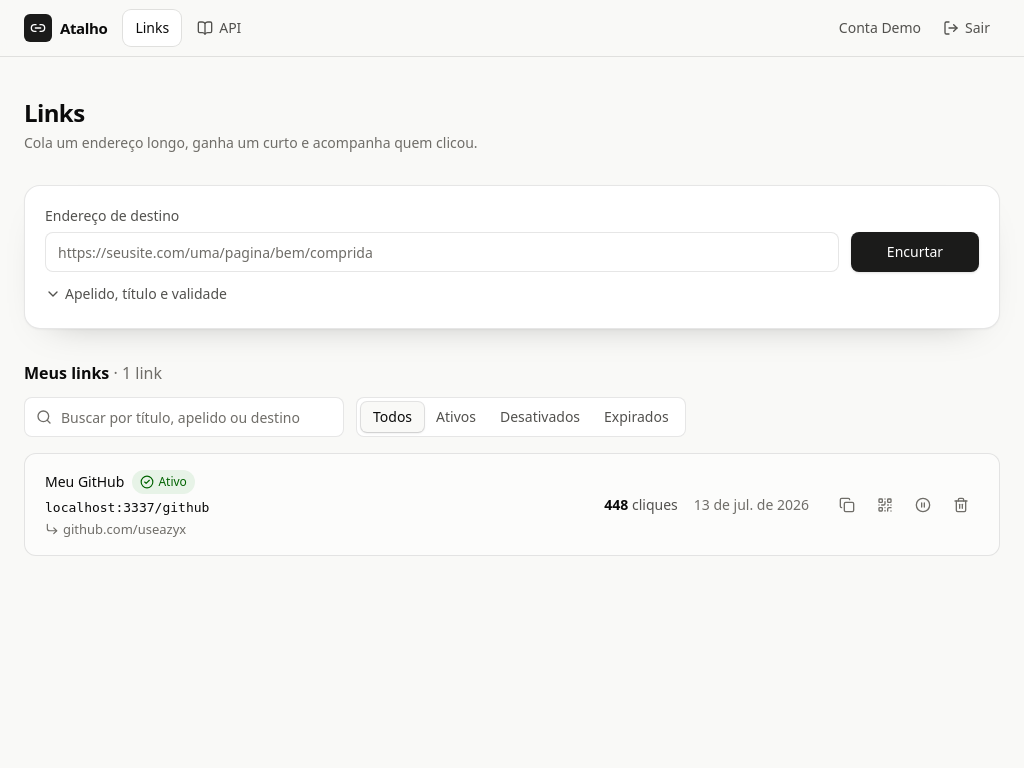
it: links page › shows a taken alias under the alias field
Type "https://example.com" into the field labelled "Endereço de destino" at x=442, y=252, box [46,233,838,271]
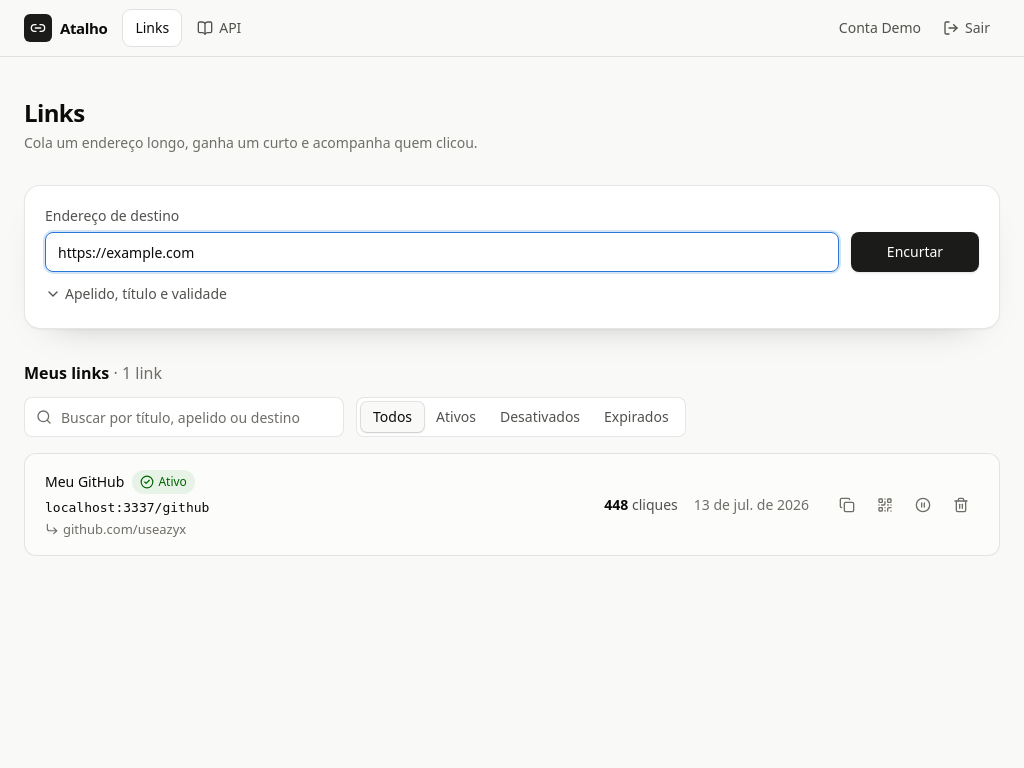
Click the button "Apelido, título e validade" at x=136, y=294, box [45,284,227,304]
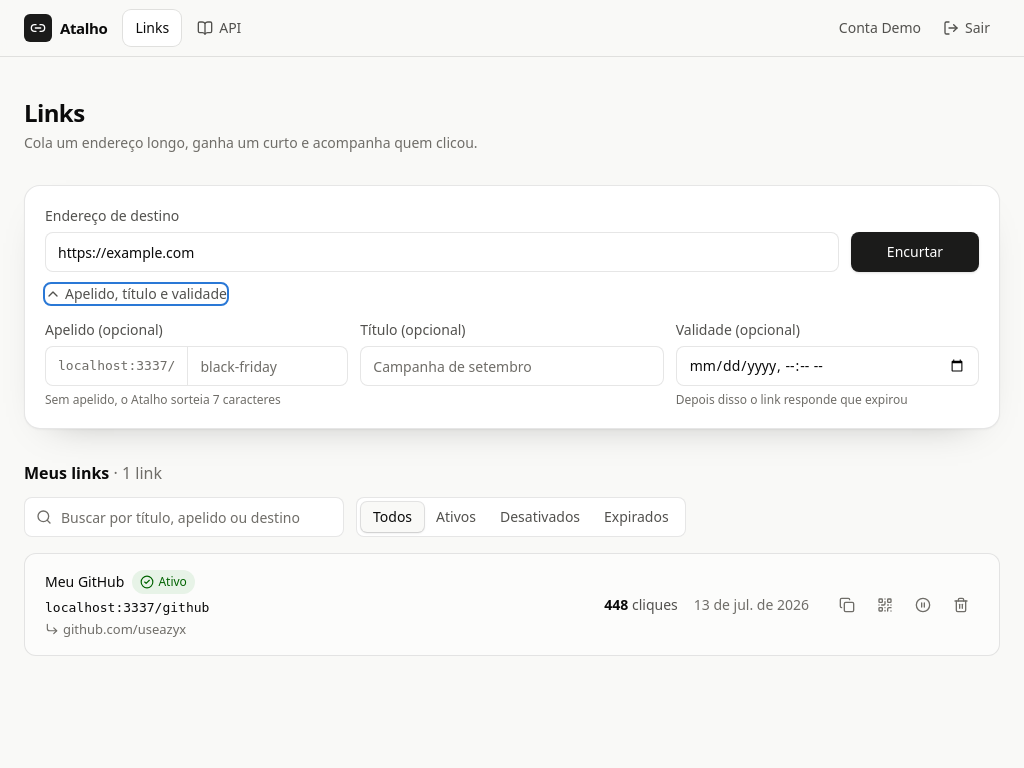
Type "GitHub" into the field labelled "Apelido (opcional)" at x=268, y=366, box [188,347,347,385]
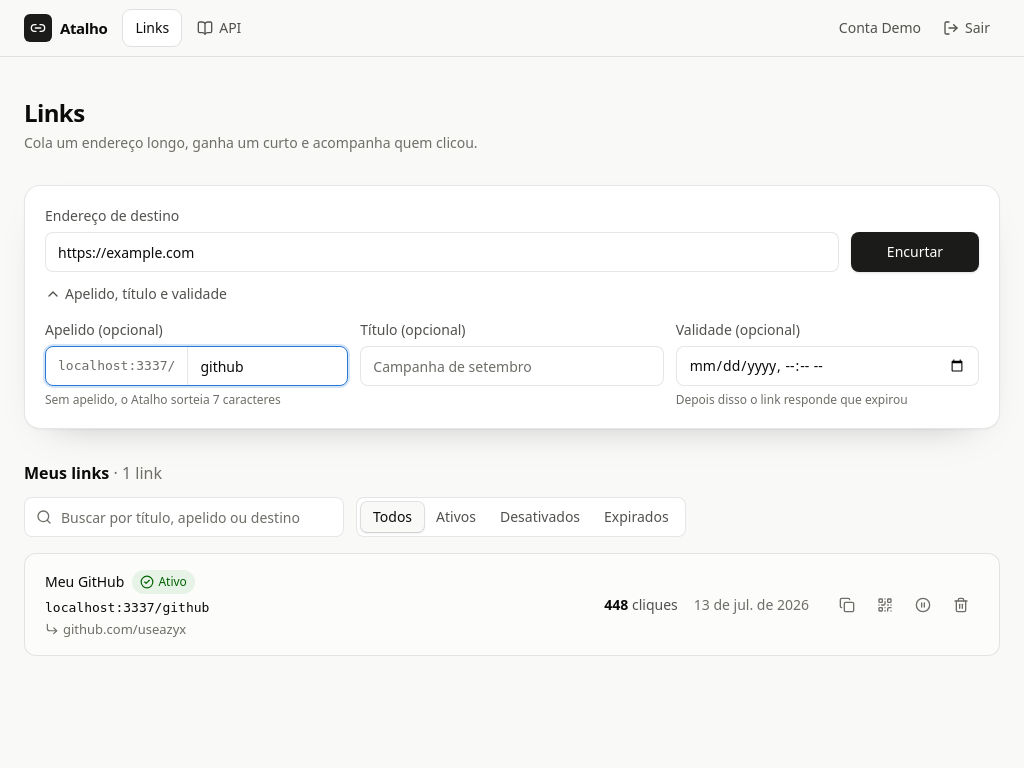
Click the button "Encurtar" at x=915, y=252, box [851,232,979,272]
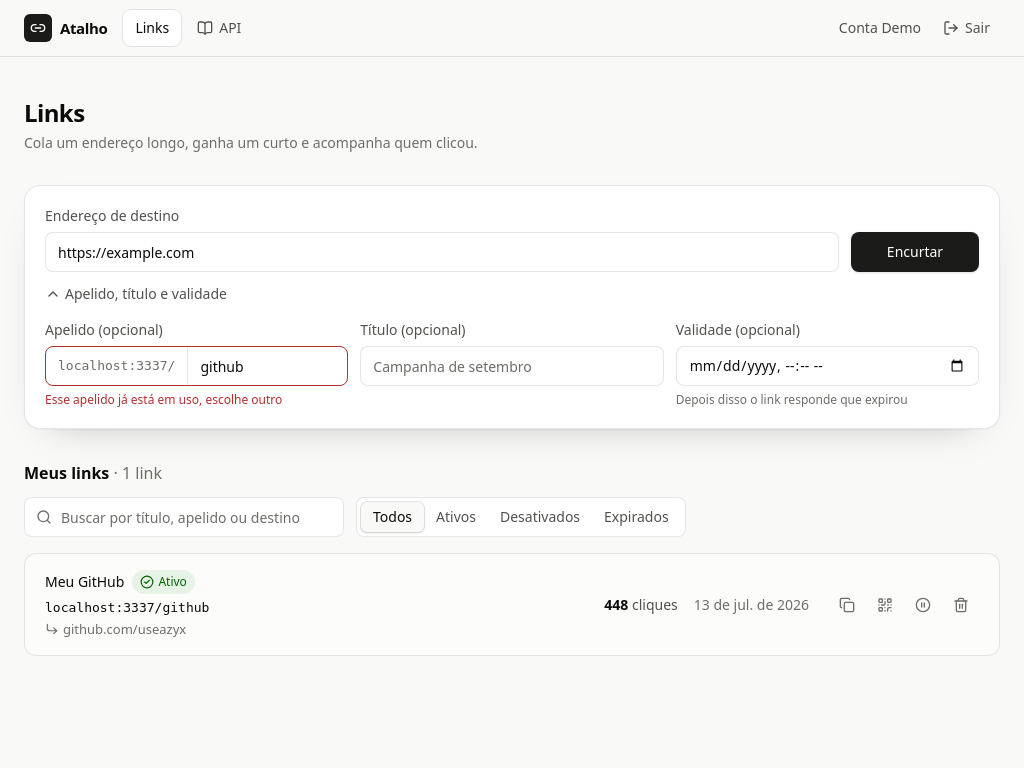
Expected: the text "Esse apelido já está em uso, escolhe outro" is shown, [45,391,282,408]
